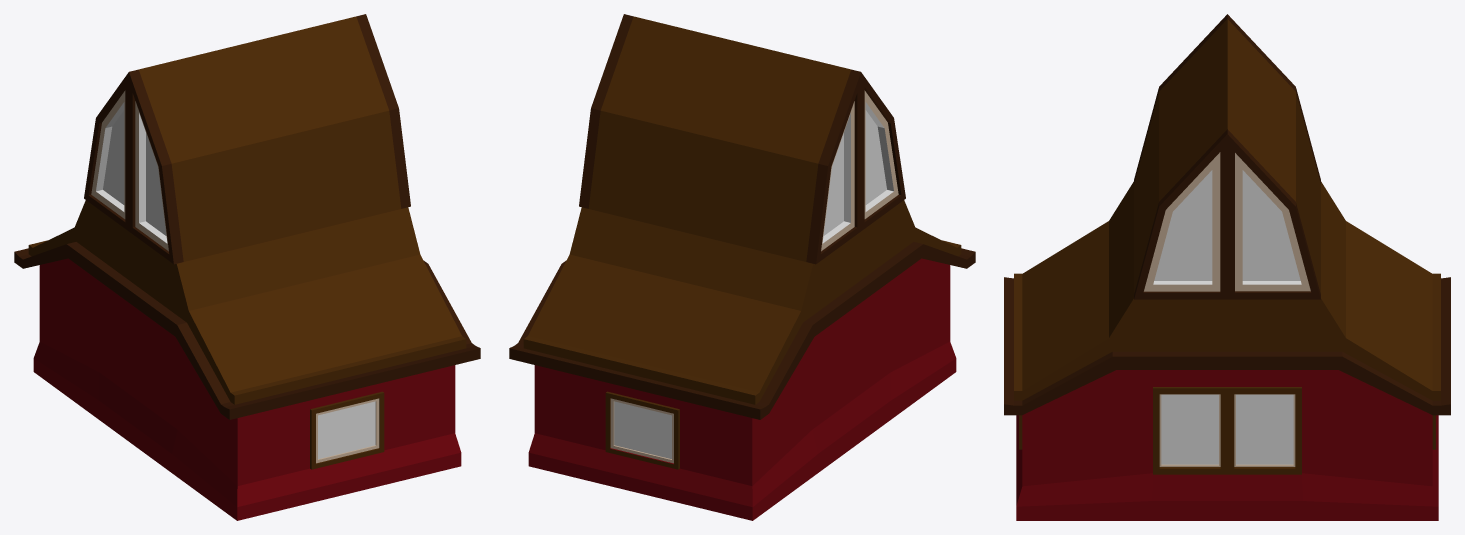
Rendered from BarnHouse.fbx.
The picture shows the model from 3 angles, left to right: view 1: azimuth 30°, elevation 25°; view 2: azimuth 150°, elevation 25°; view 3: azimuth 270°, elevation 25°; orthographic projection. The views are drawn at different scales.
Parts seen in each view (by area): view 1: Cube; view 2: Cube; view 3: Cube.
Part boxes in pixels (x1=…): Cube: x1=14, y1=14, x2=480, y2=520; Cube: x1=509, y1=14, x2=975, y2=520; Cube: x1=1004, y1=14, x2=1450, y2=520.
Bounding box in the file's own units: 1802 × 2579 × 2677.
